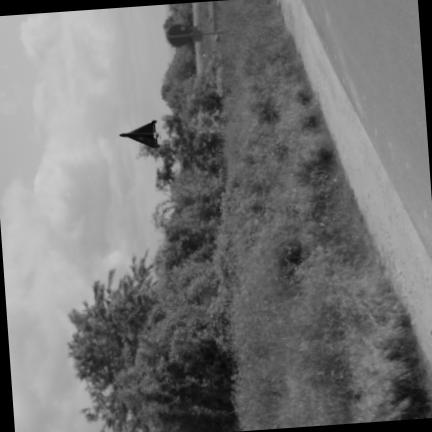Shahed: (121, 119, 159, 147)
